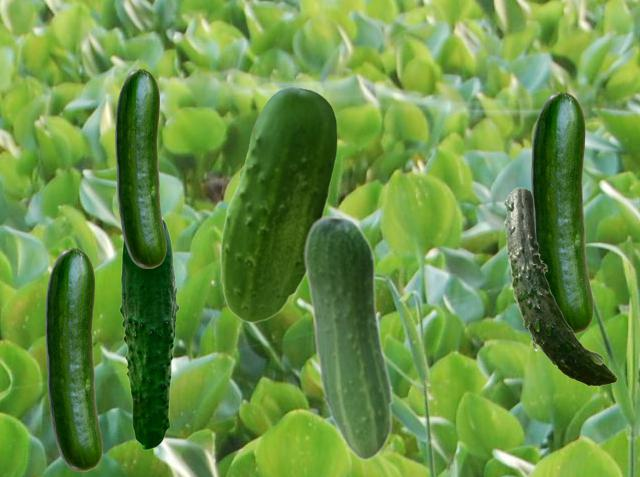cucumber: (220, 86, 336, 322), (503, 187, 616, 385), (303, 214, 393, 460), (531, 92, 592, 333), (119, 218, 178, 449), (45, 248, 101, 470), (115, 69, 165, 267)
